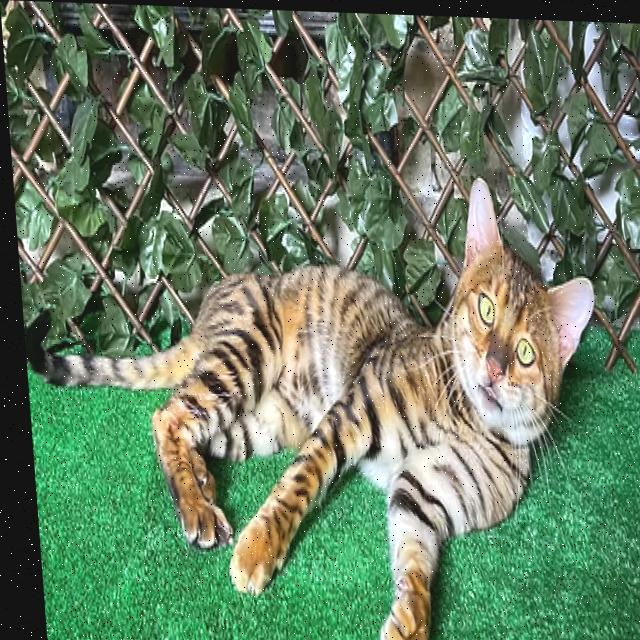Toyger: (9, 157, 615, 640)
